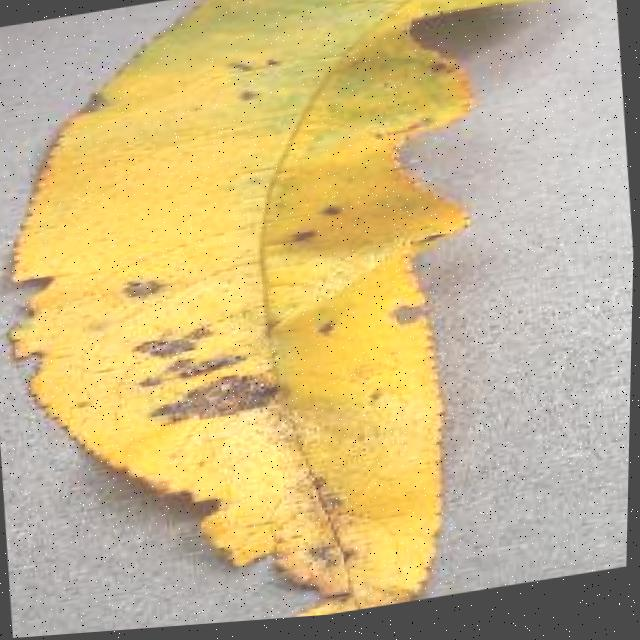Bacterial_spot: (97, 243, 306, 447), (252, 426, 375, 601)
